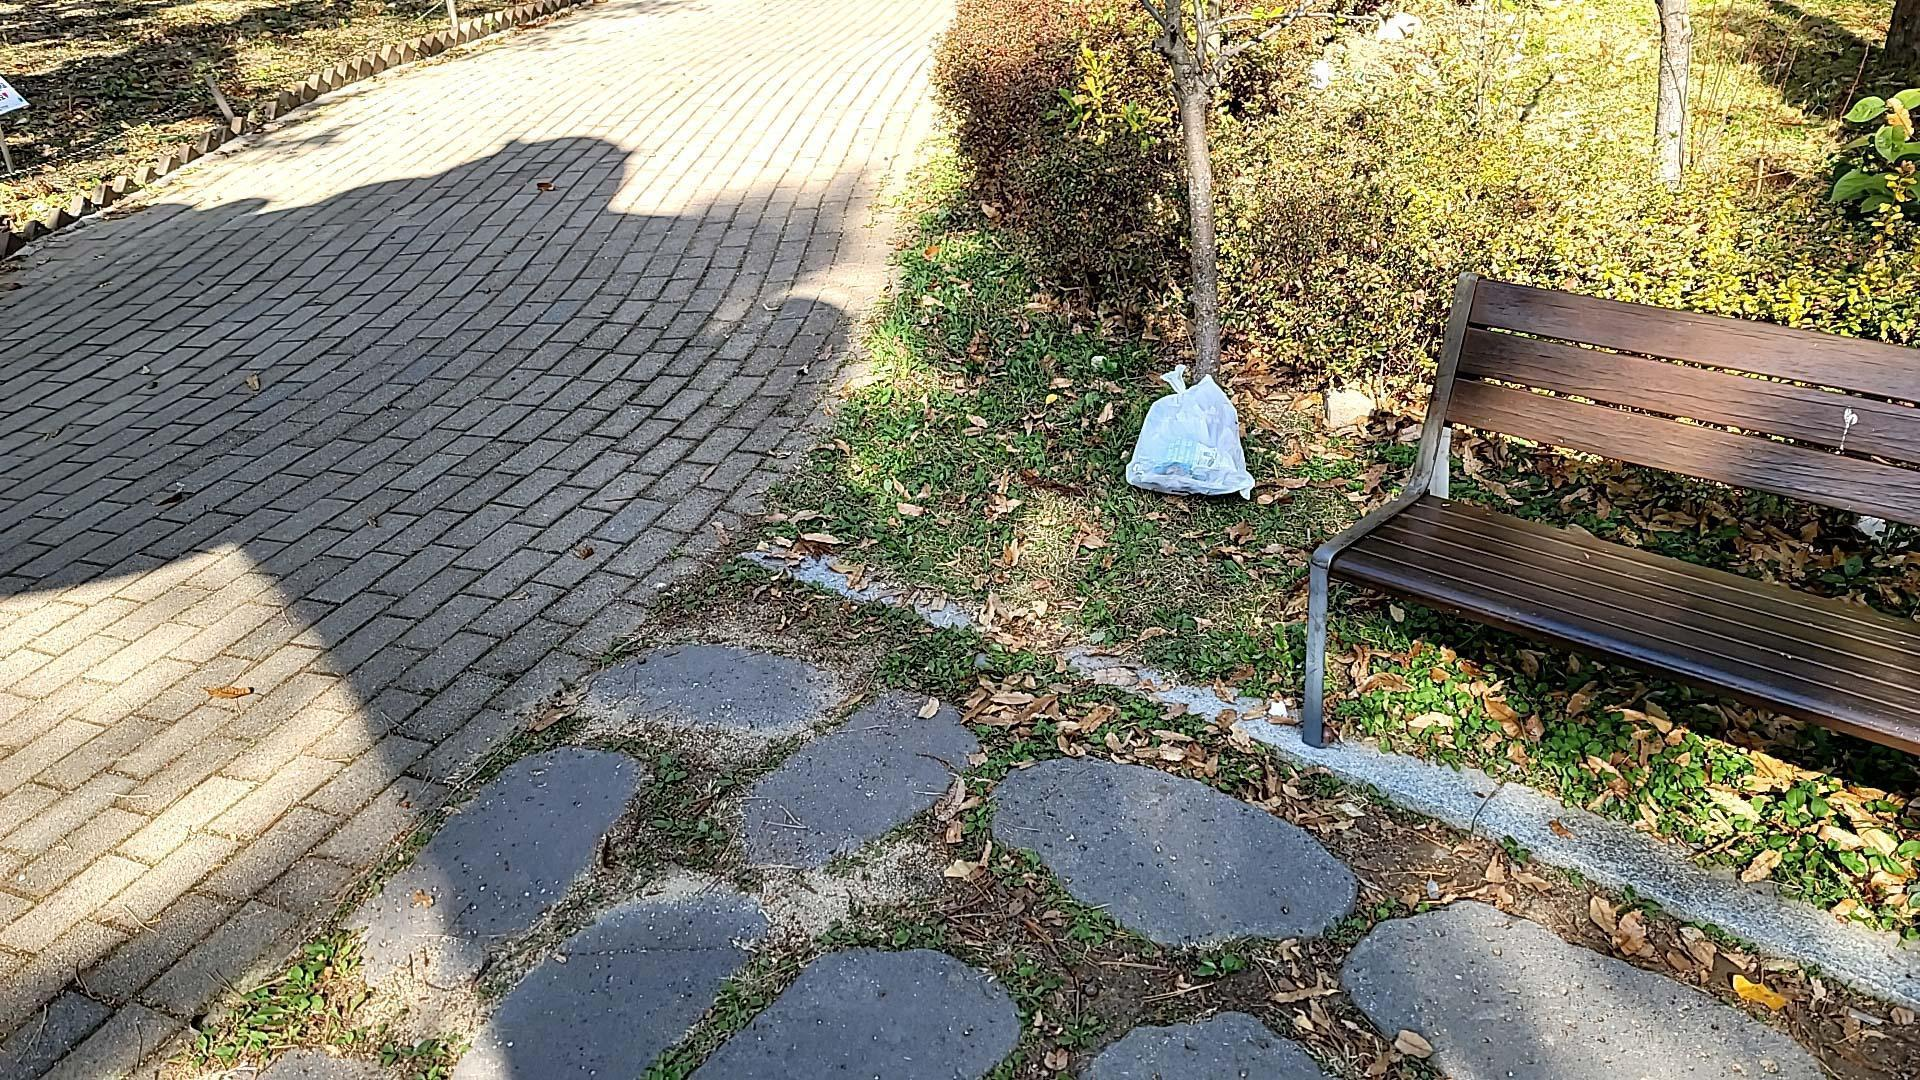white_bag: (1104, 361, 1262, 500)
